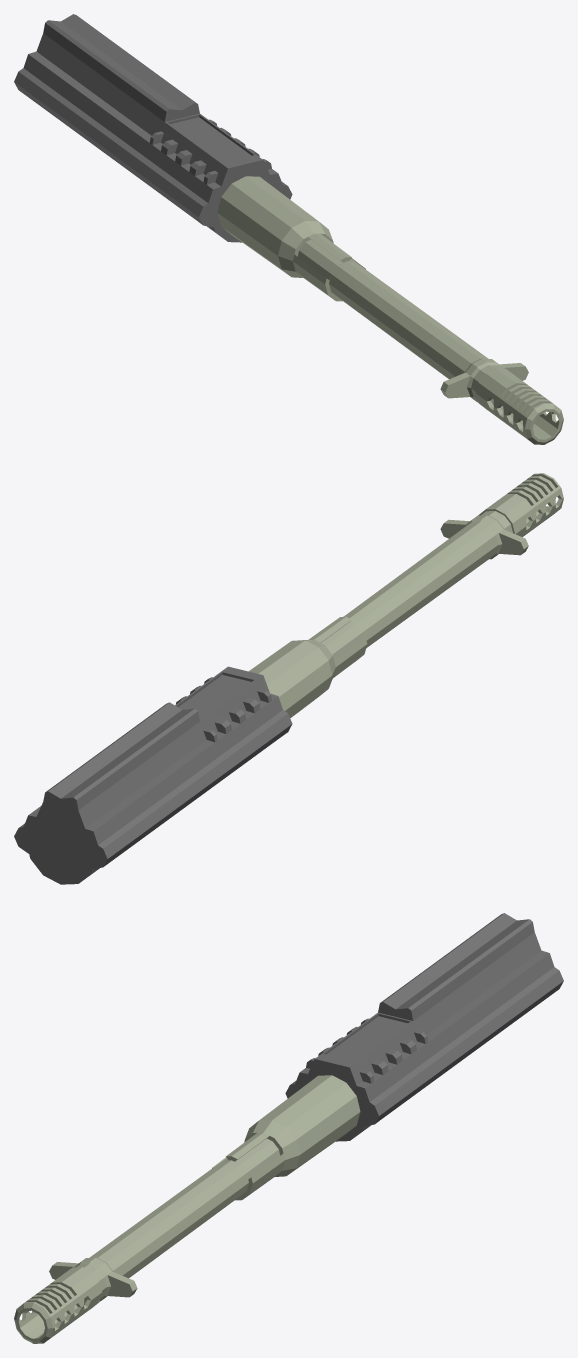
Rendered from testgun.fbx.
3 renders of one model, top to bottom at view 1: azimuth 30°, elevation 25°; view 2: azimuth 150°, elevation 25°; view 3: azimuth 330°, elevation 25°, orthographic.
Visible parts, largest first — view 1: Cylinder.027; view 2: Cylinder.027; view 3: Cylinder.027.
Boxes of the visible parts, box(x1,y1,x2,y2) form: Cylinder.027: box(14, 14, 563, 444); Cylinder.027: box(14, 473, 563, 884); Cylinder.027: box(14, 913, 563, 1343).
Bounding box in the file's own units: 102 × 94.31 × 919.
